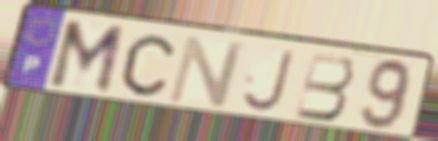9: (356, 57, 414, 134)
B: (292, 51, 357, 124)
C: (118, 33, 177, 99)
J: (239, 47, 297, 114)
M: (45, 18, 129, 98)
N: (165, 34, 249, 109)
